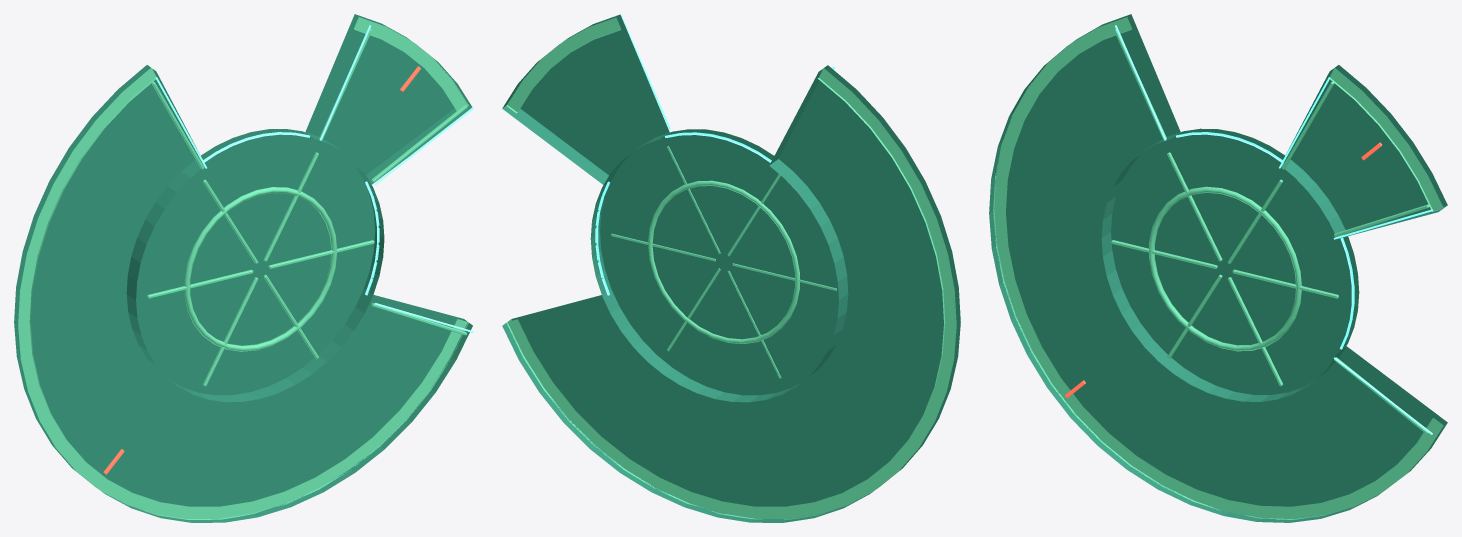
Rendered from bio-panel-fun5-medium.glb.
3 views of the same model, side by side, from view 1: azimuth 30°, elevation 25°; view 2: azimuth 150°, elevation 25°; view 3: azimuth 330°, elevation 25° (orthographic).
Parts seen in each view (by area): view 1: RENDER_PANEL_SHELL, RENDER_PANEL_FRAME, RENDER_PANEL_SIGNAL; view 2: RENDER_PANEL_SHELL, RENDER_PANEL_FRAME, RENDER_PANEL_SIGNAL; view 3: RENDER_PANEL_SHELL, RENDER_PANEL_FRAME, RENDER_PANEL_SIGNAL.
Part boxes in pixels (<box>): RENDER_PANEL_SHELL: <box>14,14,472,522</box>; RENDER_PANEL_FRAME: <box>18,17,468,519</box>; RENDER_PANEL_SIGNAL: <box>155,25,473,332</box>; RENDER_PANEL_SHELL: <box>502,14,960,522</box>; RENDER_PANEL_FRAME: <box>506,17,956,519</box>; RENDER_PANEL_SIGNAL: <box>595,14,834,295</box>; RENDER_PANEL_SHELL: <box>989,14,1447,522</box>; RENDER_PANEL_FRAME: <box>993,17,1443,519</box>; RENDER_PANEL_SIGNAL: <box>1115,25,1432,434</box>.
Size of what is drawn, in the model's own units: 38.92 by 38.92 by 1.95.
